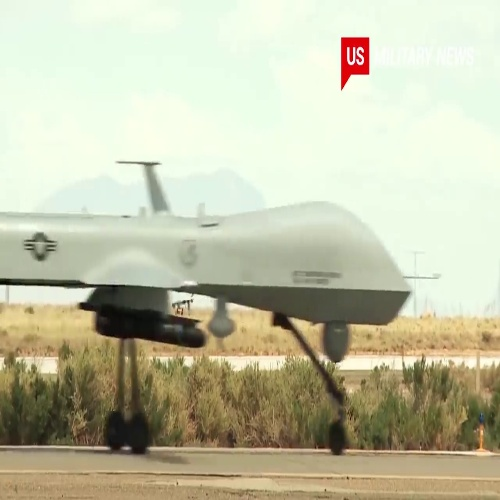uav: (1, 155, 436, 457)
